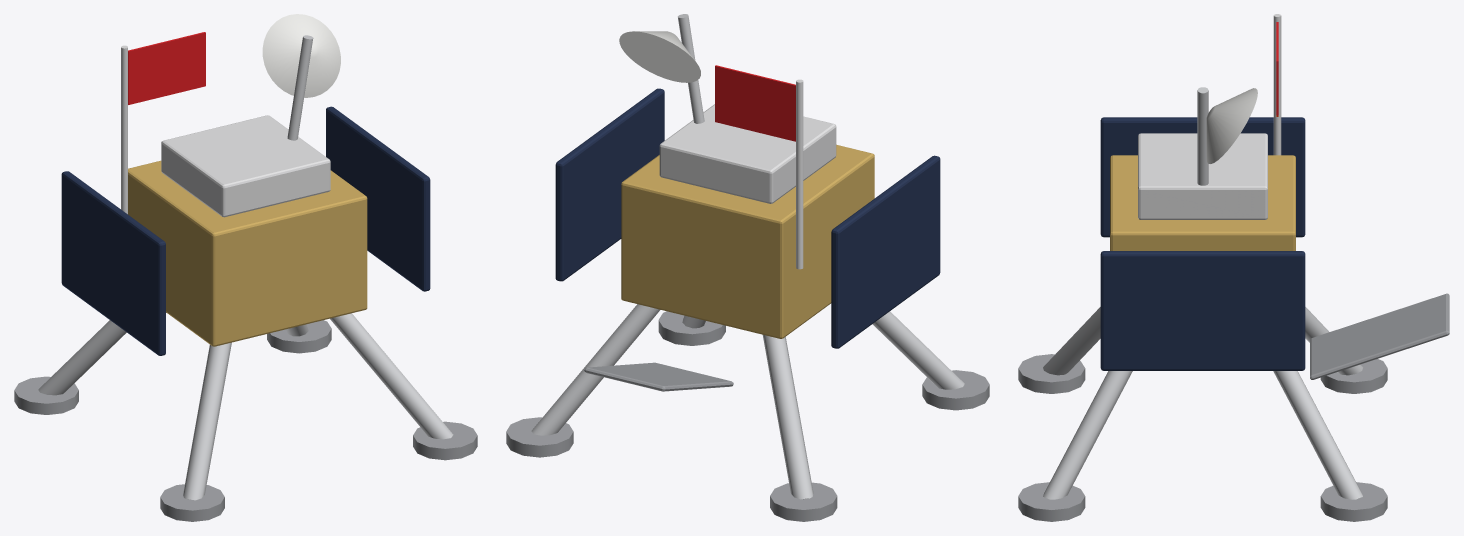
The model's file is mission-change.glb.
The picture shows the model from 3 angles, left to right: view 1: azimuth 30°, elevation 25°; view 2: azimuth 150°, elevation 25°; view 3: azimuth 270°, elevation 25°; orthographic projection. The views are drawn at different scales.
Visible parts, largest first — view 1: bus, panel_-1, top, panel_1, dish, flagcloth, leg_2, leg_3, leg_1, pad_2, pad_3, pad_1 (+3 smaller); view 2: bus, panel_-1, panel_1, top, flagcloth, leg_1, leg_0, dish, ramp, leg_2, pad_1, pad_0 (+4 smaller); view 3: panel_1, top, bus, ramp, panel_-1, leg_0, leg_3, dish, pad_0, pad_3, pad_2, leg_2 (+4 smaller).
Boxes of the visible parts, <box> form: bus: <box>128,160,367,346</box>; panel_-1: <box>61,171,165,355</box>; top: <box>161,115,330,217</box>; panel_1: <box>326,106,430,291</box>; dish: <box>262,14,340,97</box>; flagcloth: <box>128,32,205,104</box>; leg_2: <box>183,342,231,500</box>; leg_3: <box>330,313,453,439</box>; leg_1: <box>38,320,126,395</box>; pad_2: <box>160,484,224,521</box>; pad_3: <box>413,421,477,460</box>; pad_1: <box>14,376,78,414</box>; bus: <box>621,144,874,338</box>; panel_-1: <box>831,155,940,348</box>; panel_1: <box>555,88,664,281</box>; top: <box>659,104,836,203</box>; flagcloth: <box>715,65,795,141</box>; leg_1: <box>762,335,813,499</box>; leg_0: <box>531,304,660,435</box>; dish: <box>619,31,700,82</box>; ramp: <box>584,362,733,391</box>; leg_2: <box>872,311,964,389</box>; pad_1: <box>770,482,837,521</box>; pad_0: <box>506,417,573,457</box>; panel_1: <box>1100,251,1305,370</box>; top: <box>1138,133,1267,219</box>; bus: <box>1110,155,1295,250</box>; ramp: <box>1310,293,1449,379</box>; panel_-1: <box>1100,117,1305,237</box>; leg_0: <box>1273,371,1362,499</box>; leg_3: <box>1043,371,1132,499</box>; dish: <box>1206,88,1257,163</box>; pad_0: <box>1320,482,1387,521</box>; pad_3: <box>1018,482,1085,521</box>; pad_2: <box>1018,354,1085,393</box>; leg_2: <box>1043,307,1100,375</box>.
Bounding box in the file's own units: 2.48 × 2.87 × 2.9.
7 materials, 1 textured.
